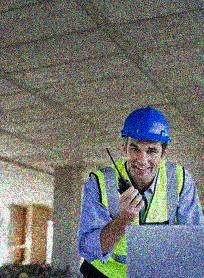helmet: (119, 106, 174, 181)
